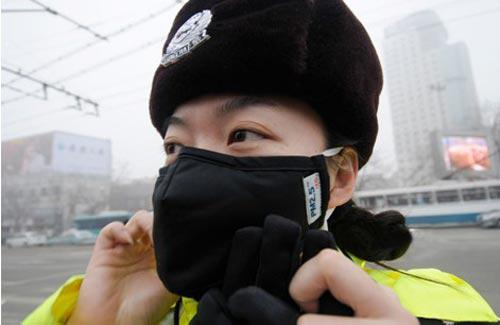OK: (153, 93, 347, 287)
